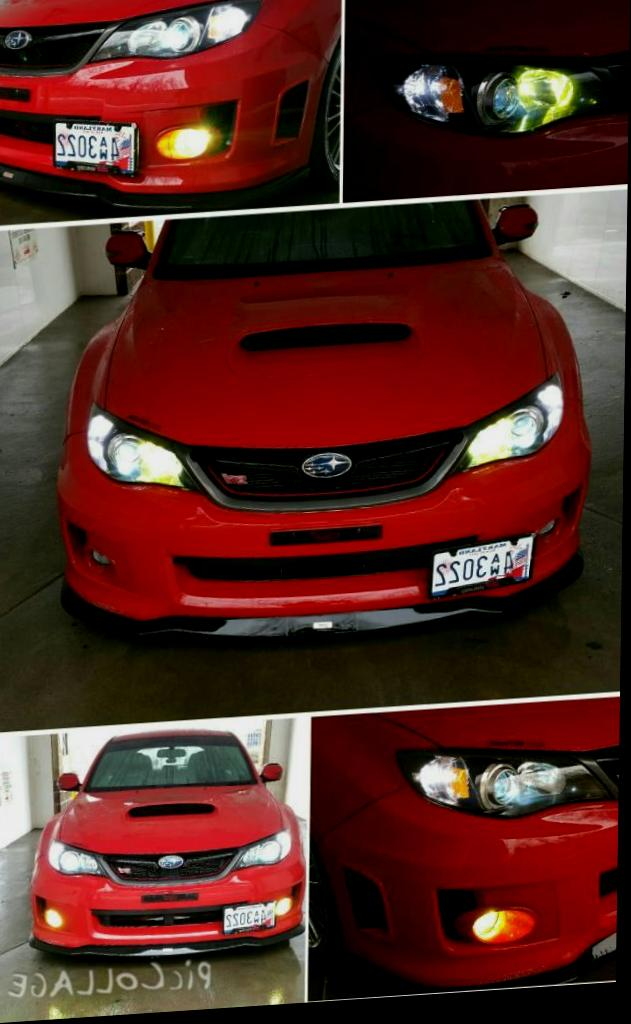License_Plate: (413, 524, 544, 601), (43, 100, 148, 196), (211, 889, 285, 938)
